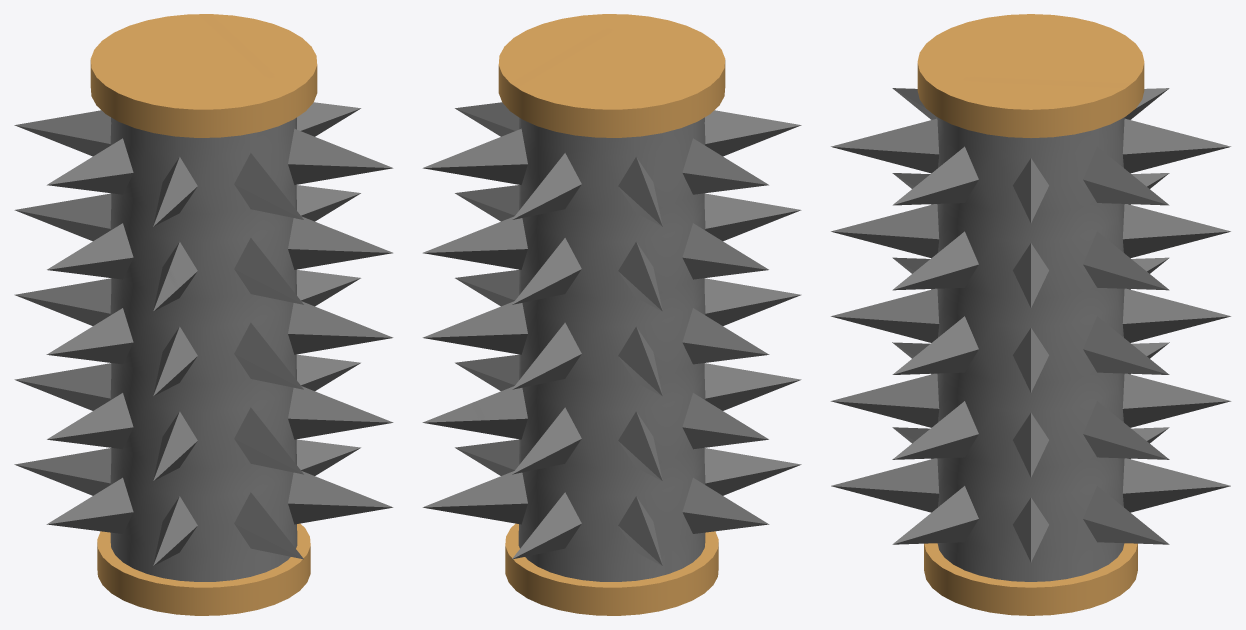
Rendered from Trap.fbx.
The picture shows the model from 3 angles, left to right: view 1: azimuth 30°, elevation 25°; view 2: azimuth 150°, elevation 25°; view 3: azimuth 270°, elevation 25°; orthographic projection.
Visible parts, largest first — view 1: Cylinder; view 2: Cylinder; view 3: Cylinder.
Boxes of the visible parts, box(x1,y1,x2,y2) form: Cylinder: box(14, 14, 393, 615); Cylinder: box(422, 14, 801, 615); Cylinder: box(830, 14, 1231, 615).
Bounding box in the file's own units: 3.89 × 6 × 4.29.
1 material, 1 textured.
